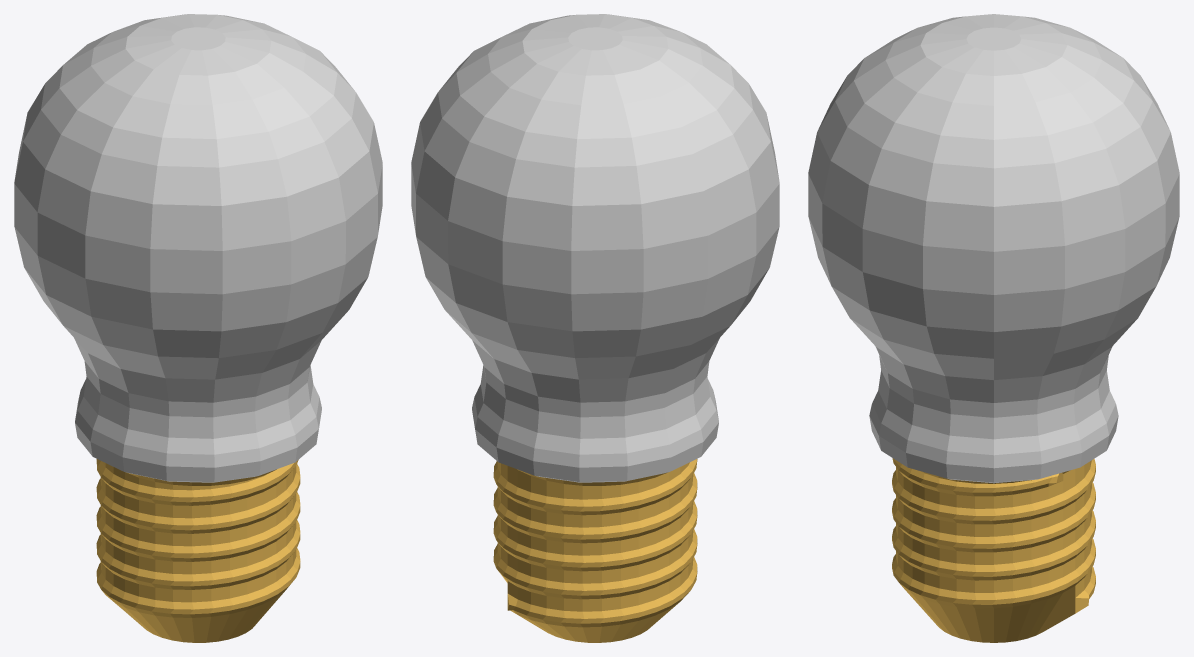
File: LightBulbRe.fbx
3 renders of one model, left to right at view 1: azimuth 30°, elevation 25°; view 2: azimuth 150°, elevation 25°; view 3: azimuth 270°, elevation 25°, orthographic.
Parts seen in each view (by area): view 1: Cylinder, Cylinder.001; view 2: Cylinder, Cylinder.001; view 3: Cylinder, Cylinder.001.
Boxes of the visible parts, x1,y1,x2,y2 form: Cylinder: (14,14,382,482); Cylinder.001: (96,459,300,642); Cylinder: (411,14,779,482); Cylinder.001: (493,459,697,642); Cylinder: (808,14,1179,483); Cylinder.001: (892,458,1095,642).
Bounding box in the file's own units: 329 × 566 × 329.
